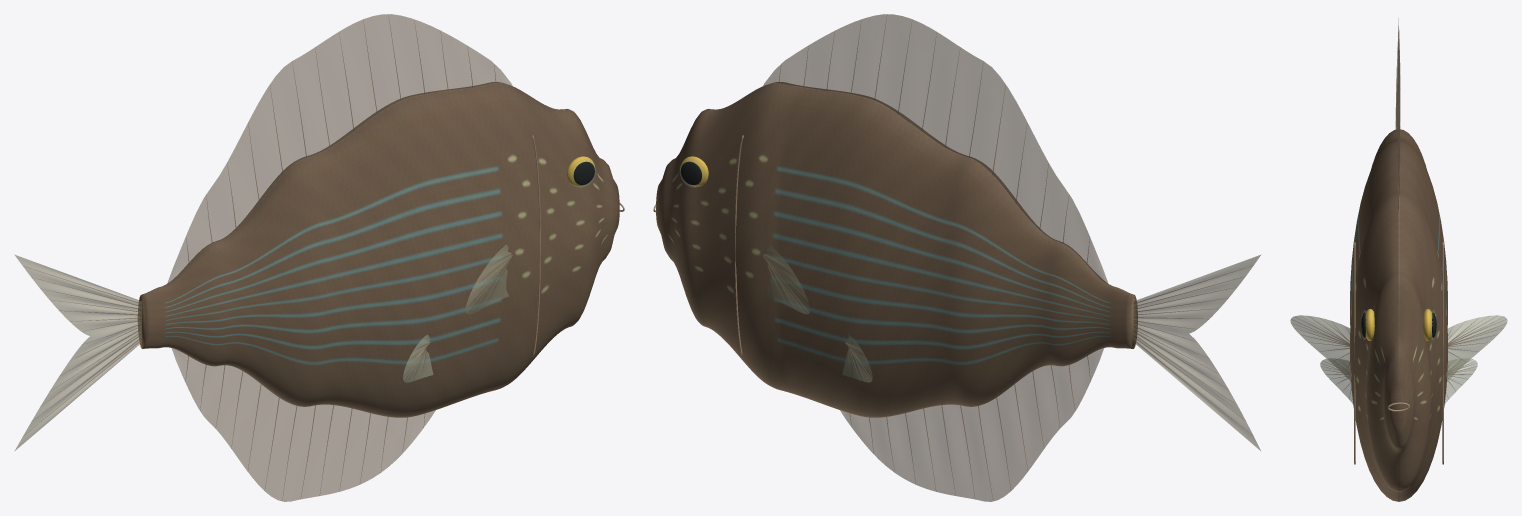
File: kole-desktop.glb
3 views of the same model, side by side, from view 1: azimuth 30°, elevation 25°; view 2: azimuth 150°, elevation 25°; view 3: azimuth 270°, elevation 25° (orthographic).
Visible parts, largest first — view 1: skin, dorsal, anal, tail, dorsal-ray, pectoral-left, pelvic-left; view 2: skin, dorsal, anal, tail, dorsal-ray, pectoral-left, pelvic-left; view 3: skin, pectoral-left, pelvic-left, dorsal-ray, operculum, eye-iris--1, dorsal.
Part boxes in pixels (<box>): skin: <box>138,82,619,417</box>; dorsal: <box>167,14,512,283</box>; anal: <box>171,348,435,501</box>; tail: <box>15,255,141,450</box>; dorsal-ray: <box>24,14,512,500</box>; pectoral-left: <box>465,244,512,314</box>; pelvic-left: <box>403,334,433,382</box>; skin: <box>656,82,1137,417</box>; dorsal: <box>763,14,1108,284</box>; anal: <box>840,348,1103,501</box>; tail: <box>1133,255,1260,450</box>; dorsal-ray: <box>762,14,1252,498</box>; pectoral-left: <box>763,244,810,314</box>; pelvic-left: <box>842,335,872,382</box>; skin: <box>1350,129,1447,501</box>; pectoral-left: <box>1290,315,1507,381</box>; pelvic-left: <box>1320,358,1477,403</box>; dorsal-ray: <box>1293,27,1505,394</box>; operculum: <box>1354,242,1443,464</box>; eye-iris--1: <box>1365,309,1432,340</box>; dorsal: <box>1397,32,1400,209</box>.
Size of the model in its own units: 0.5972 by 0.4409 by 0.1855.
11 materials, 1 textured.
